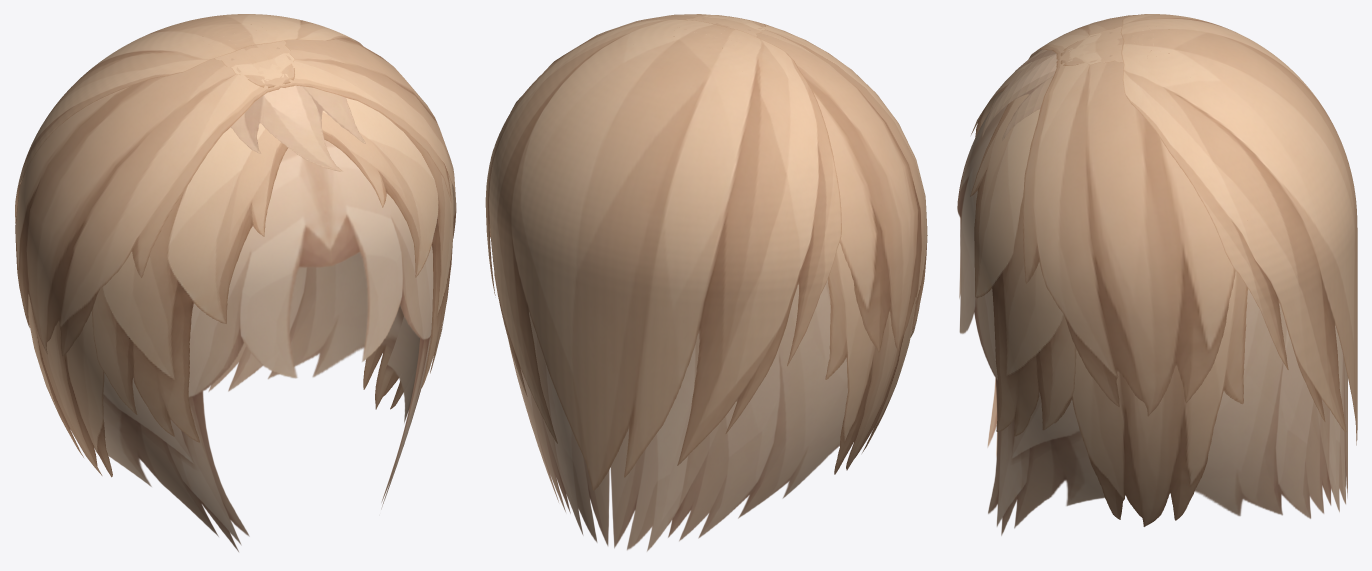
Rendered from female-hair-visible-20260917-r02.glb.
3 renders of one model, left to right at view 1: azimuth 30°, elevation 25°; view 2: azimuth 150°, elevation 25°; view 3: azimuth 270°, elevation 25°, orthographic. The views are drawn at different scales.
Parts seen in each view (by area): view 1: Female_Hair_Blonde_Bob_Hemisphere_Extruded, Female_Hair_Blonde_blonde-side-back-preview_06.002, Female_Hair_Blonde_blonde-side-back-preview_01.002, Female_Hair_Blonde_blonde-side-back-preview_07.001, Female_Hair_Blonde_blonde-side-back-preview_06.001, Female_Hair_Blonde_blonde-locks-preview_06.001; view 2: Female_Hair_Blonde_blonde-side-back-preview_07.001, Female_Hair_Blonde_Bob_Hemisphere_Extruded, Female_Hair_Blonde_blonde-side-back-preview_06.002, Female_Hair_Blonde_blonde-side-back-preview_06.001; view 3: Female_Hair_Blonde_blonde-side-back-preview_06.002, Female_Hair_Blonde_blonde-side-back-preview_07.001, Female_Hair_Blonde_Bob_Hemisphere_Extruded, Female_Hair_Blonde_blonde-side-back-preview_01.002, Female_Hair_Blonde_blonde-side-back-preview_06.001, Female_Hair_Blonde_blonde-locks-preview_06.001.
Boxes of the visible parts, x1=… form: Female_Hair_Blonde_Bob_Hemisphere_Extruded: x1=94, y1=140, x2=433, y2=551; Female_Hair_Blonde_blonde-side-back-preview_06.002: x1=15, y1=24, x2=456, y2=356; Female_Hair_Blonde_blonde-side-back-preview_01.002: x1=92, y1=98, x2=453, y2=442; Female_Hair_Blonde_blonde-side-back-preview_07.001: x1=15, y1=14, x2=362, y2=223; Female_Hair_Blonde_blonde-side-back-preview_06.001: x1=28, y1=294, x2=403, y2=477; Female_Hair_Blonde_blonde-locks-preview_06.001: x1=230, y1=85, x2=365, y2=171; Female_Hair_Blonde_blonde-side-back-preview_07.001: x1=485, y1=19, x2=841, y2=490; Female_Hair_Blonde_Bob_Hemisphere_Extruded: x1=508, y1=279, x2=847, y2=551; Female_Hair_Blonde_blonde-side-back-preview_06.002: x1=489, y1=14, x2=927, y2=352; Female_Hair_Blonde_blonde-side-back-preview_06.001: x1=494, y1=243, x2=915, y2=474; Female_Hair_Blonde_blonde-side-back-preview_06.002: x1=1022, y1=15, x2=1247, y2=416; Female_Hair_Blonde_blonde-side-back-preview_07.001: x1=1120, y1=14, x2=1357, y2=445; Female_Hair_Blonde_Bob_Hemisphere_Extruded: x1=957, y1=105, x2=1347, y2=535; Female_Hair_Blonde_blonde-side-back-preview_01.002: x1=970, y1=62, x2=1076, y2=436; Female_Hair_Blonde_blonde-side-back-preview_06.001: x1=1054, y1=271, x2=1247, y2=526; Female_Hair_Blonde_blonde-locks-preview_06.001: x1=982, y1=49, x2=1057, y2=140.
Bounding box in the file's own units: 0.6337 × 0.6873 × 0.54.
3 materials, 3 textured.
